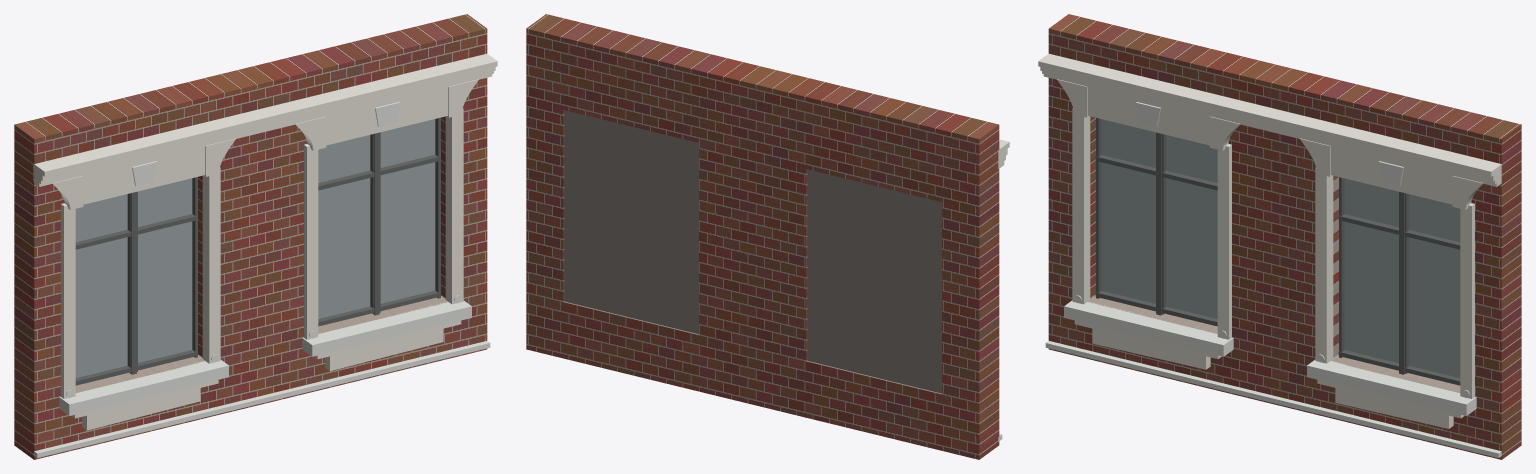
Rendered from zhongxin-yicun-twin-window-lintels-near.glb.
3 renders of one model, left to right at view 1: azimuth 30°, elevation 25°; view 2: azimuth 150°, elevation 25°; view 3: azimuth 330°, elevation 25°, orthographic.
Visible parts, largest first — view 1: 中信一村沿街双窗的连檐、曲肩与双层窗台; view 2: 中信一村沿街双窗的连檐、曲肩与双层窗台; view 3: 中信一村沿街双窗的连檐、曲肩与双层窗台.
Part boxes in pixels (x1,y1,x2,y2): 中信一村沿街双窗的连檐、曲肩与双层窗台: (14,14,497,459); 中信一村沿街双窗的连檐、曲肩与双层窗台: (526,14,1009,459); 中信一村沿街双窗的连檐、曲肩与双层窗台: (1038,14,1521,459).
Size of the model in its own units: 3.06 by 2.07 by 0.357.
Materials: 6 (1 with a texture image).
